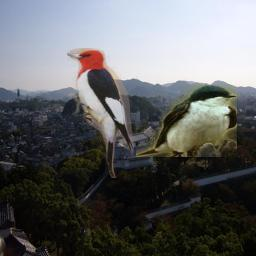Swallow: (136, 85, 237, 157)
Woodpecker: (67, 48, 134, 178)
